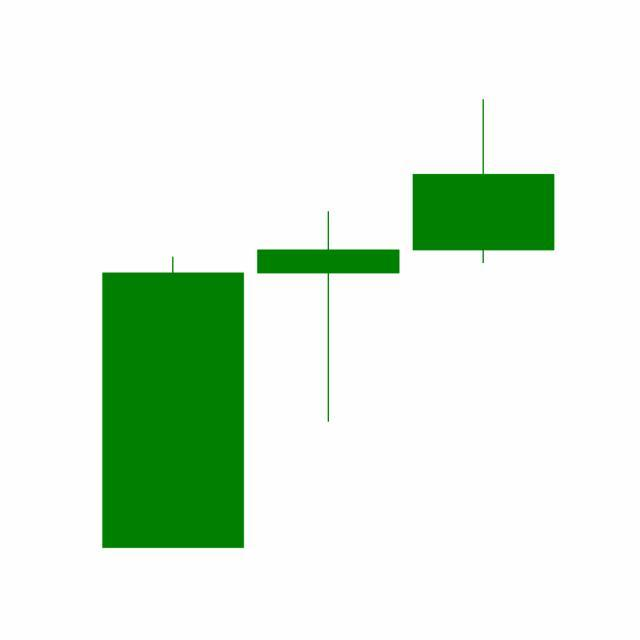Dragonfly Doji: (250, 209, 407, 425)
